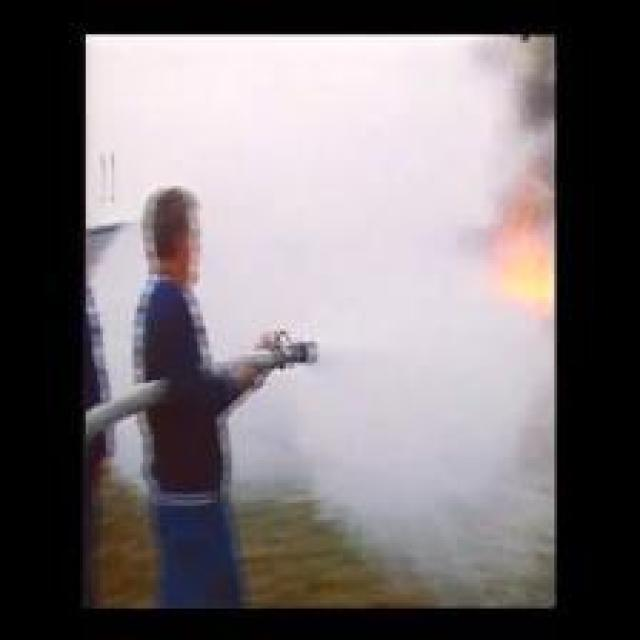fire: (481, 202, 548, 318)
